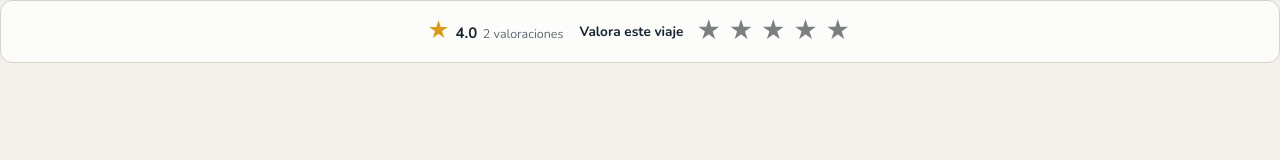
Scenario: loads the current vote and updates the aggregate after rating
Click the button named "5 estrellas" at (838, 31), box [823, 13, 853, 50]
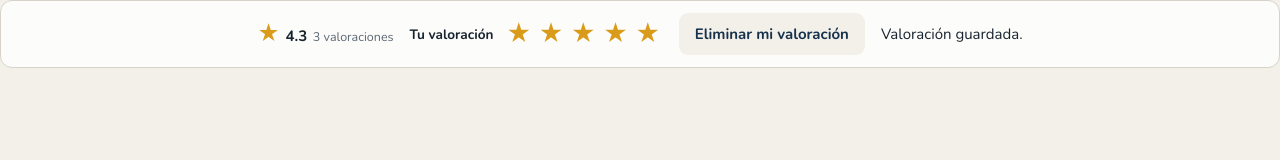
Now the text "4.3" is shown, box [286, 26, 307, 46]
